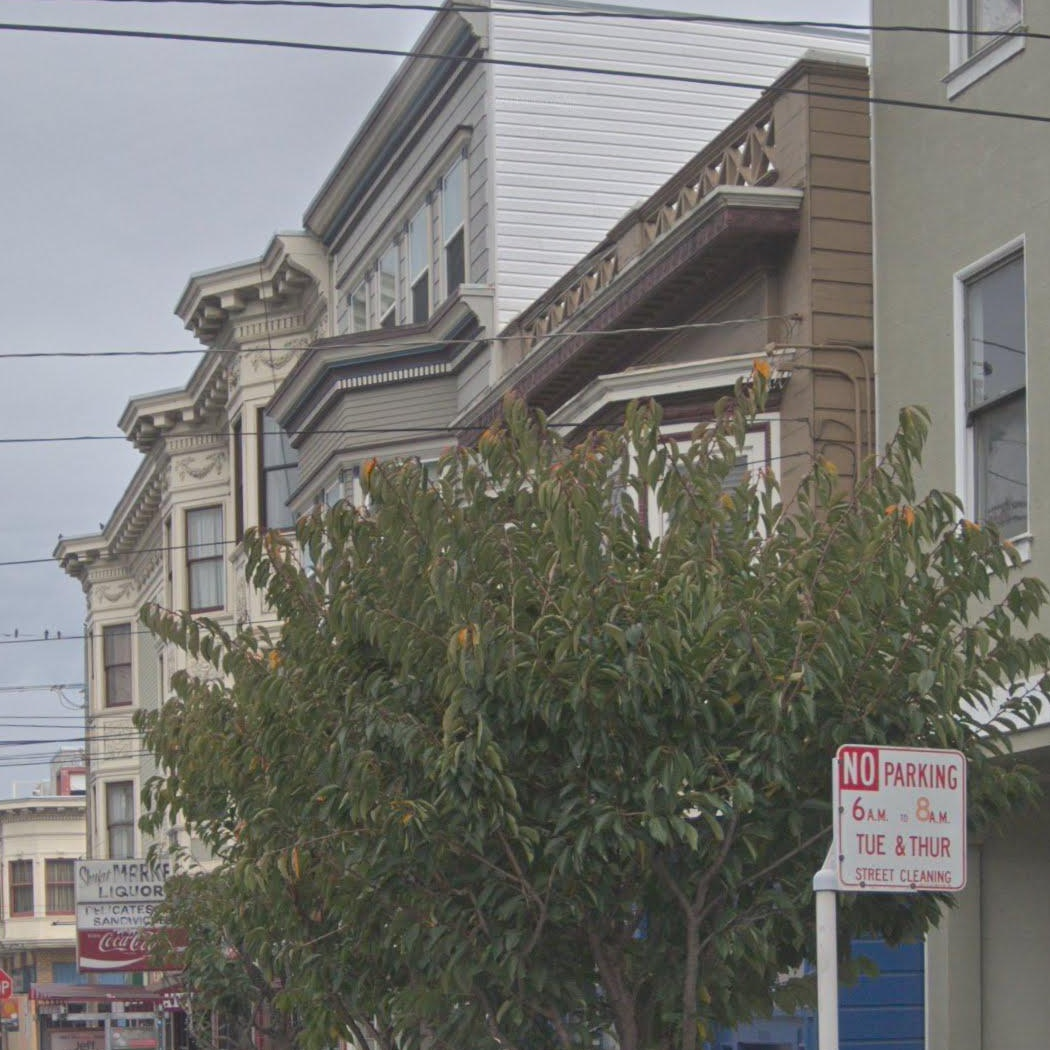No Parking: (829, 738, 971, 898)
